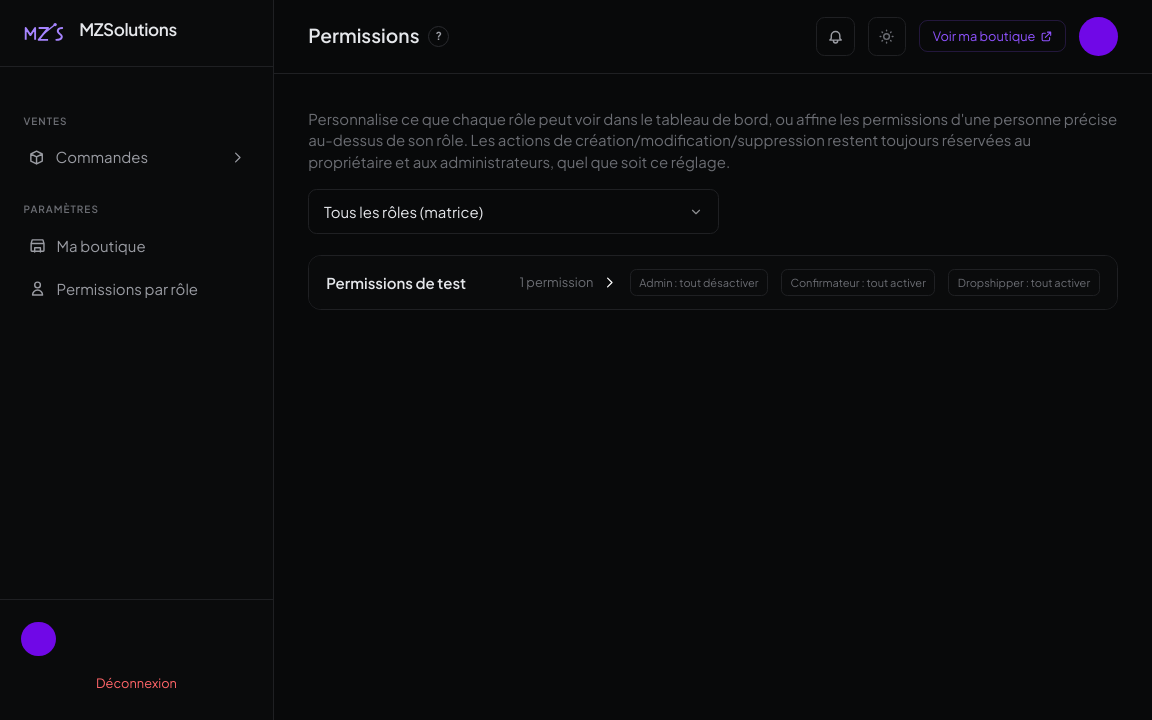
Test: PermissionsPage › renders the permission matrix once loaded, category expandable
Expected: the text "Permissions de test" is shown, [326,272,466,294]
What coordinates should you click on to do the following:
click the button "Permissions de test 1 permission"
I would click on:
 (396, 283)
Its box is [326,272,617,294].
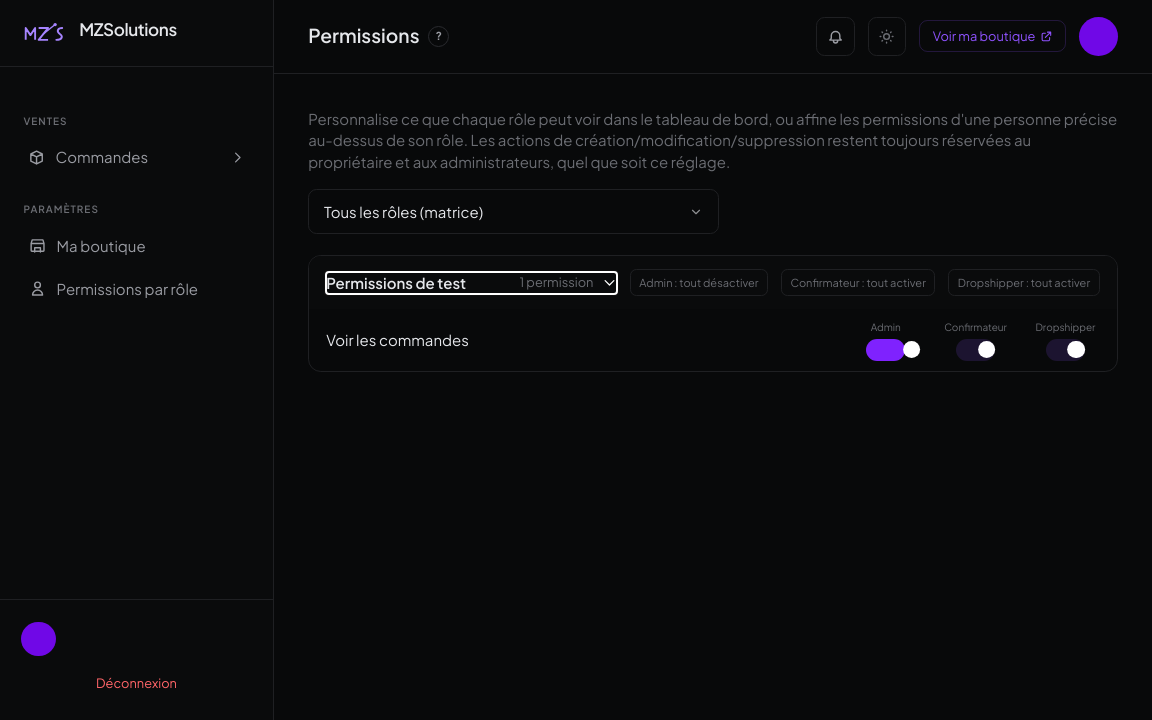
Expected: the text "Voir les commandes" is shown, [326,330,469,351]
Expected: the text "Confirmateur" is shown, [944,320,1007,335]
